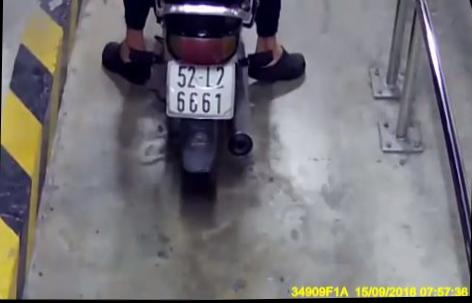LP: (166, 59, 236, 122)
